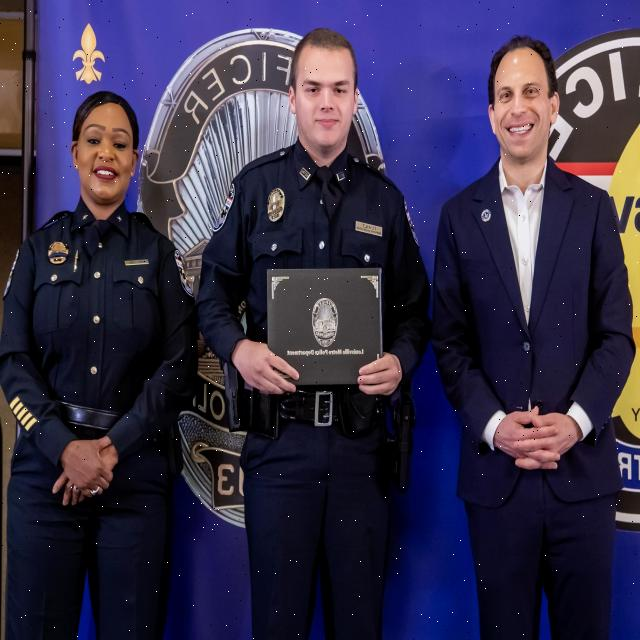police: (208, 13, 417, 640), (2, 92, 193, 627)
